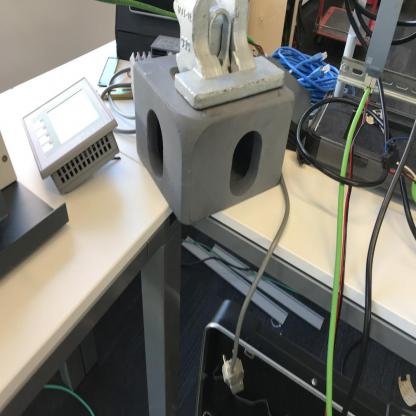CornerCasting: (124, 51, 294, 231)
Twistlock: (167, 0, 289, 115)
